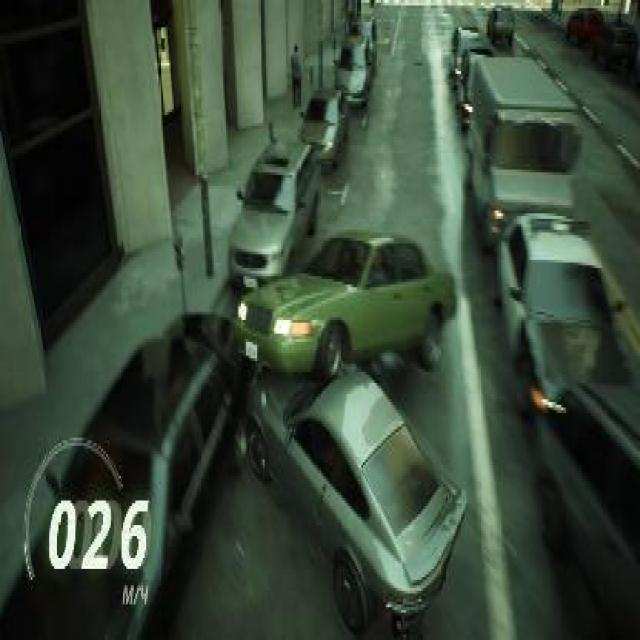accident: (222, 213, 476, 638)
